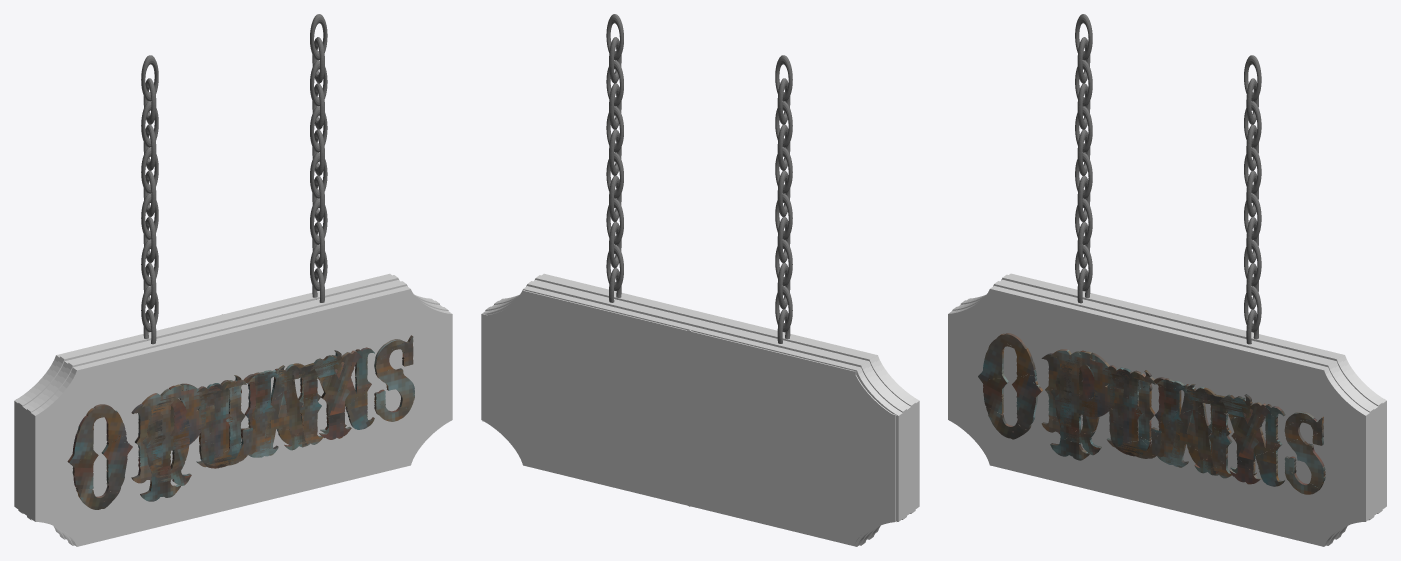
Rendered from HangingSign.fbx.
3 views of the same model, side by side, from view 1: azimuth 30°, elevation 25°; view 2: azimuth 150°, elevation 25°; view 3: azimuth 330°, elevation 25° (orthographic).
Visible parts, largest first — view 1: Board, Options, Play, Quit, Torus, Torus.002, Torus.001, Torus.003; view 2: Board, Torus, Torus.002, Torus.001, Torus.003; view 3: Board, Play, Options, Quit, Torus, Torus.002, Torus.001, Torus.003.
Part boxes in pixels (x1,y1,x2,y2): Board: (14,273,452,546); Options: (67,335,414,509); Play: (140,350,362,501); Quit: (142,350,342,485); Torus: (141,55,158,332); Torus.002: (310,14,327,290); Torus.001: (143,78,156,344); Torus.003: (312,37,324,302); Board: (481,273,919,546); Torus: (775,55,792,332); Torus.002: (606,14,623,290); Torus.001: (777,78,790,343); Torus.003: (609,37,621,302); Board: (948,273,1386,546); Play: (1050,349,1270,484); Options: (978,333,1325,494); Quit: (1050,358,1252,478); Torus: (1075,14,1092,291); Torus.002: (1244,55,1261,332); Torus.001: (1077,37,1090,303); Torus.003: (1246,78,1258,344).
Bounding box in the file's own units: 346 × 369 × 34.19.
